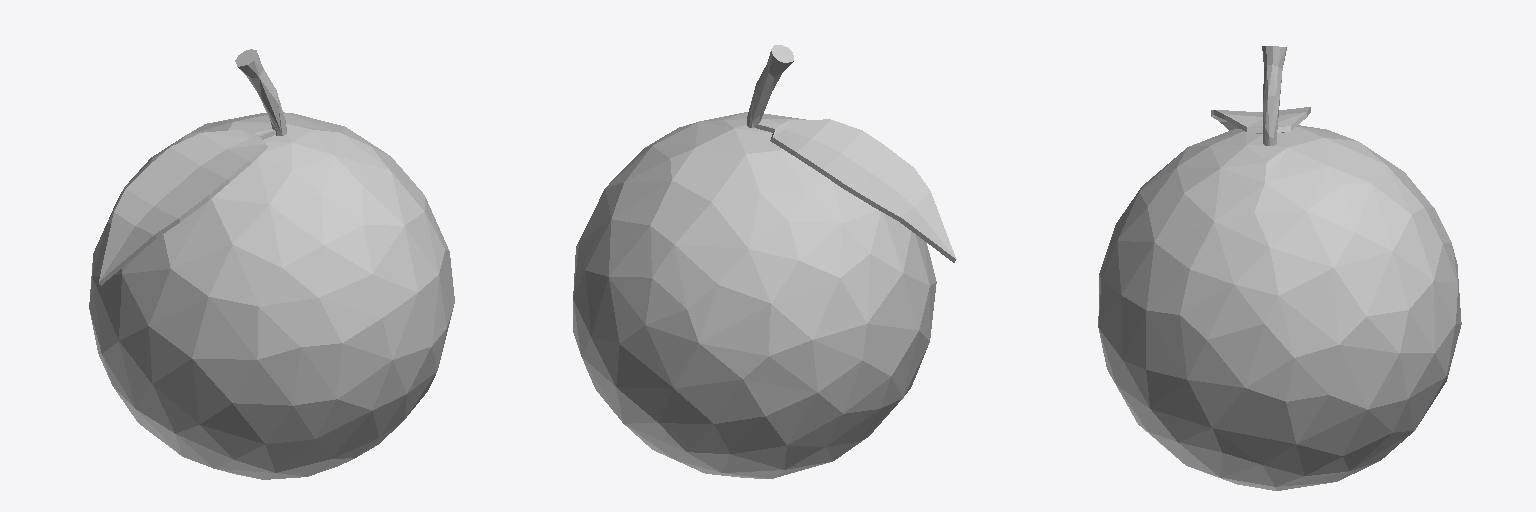
The model's file is Anoying Orange.mtl.obj.
The picture shows the model from 3 angles: view 1: azimuth 30°, elevation 25°; view 2: azimuth 150°, elevation 25°; view 3: azimuth 270°, elevation 25°; orthographic projection.
Parts seen in each view (by area): view 1: Sphere.001; view 2: Sphere.001; view 3: Sphere.001.
Part boxes in pixels (x1,y1,x2,y2): Sphere.001: (89, 49, 454, 479); Sphere.001: (573, 45, 956, 478); Sphere.001: (1098, 46, 1461, 490).
Bounding box in the file's own units: 0.4651 × 0.536 × 0.423.